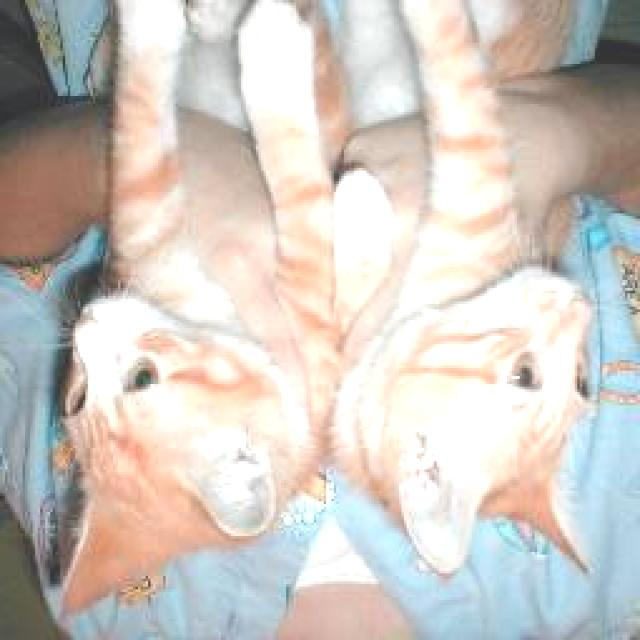Kucing: (331, 40, 640, 608), (31, 180, 290, 592)
